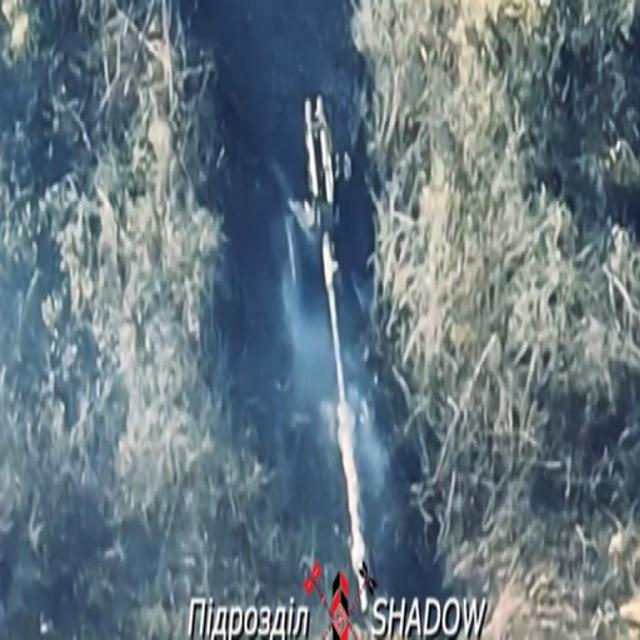ART: (266, 78, 375, 615)
